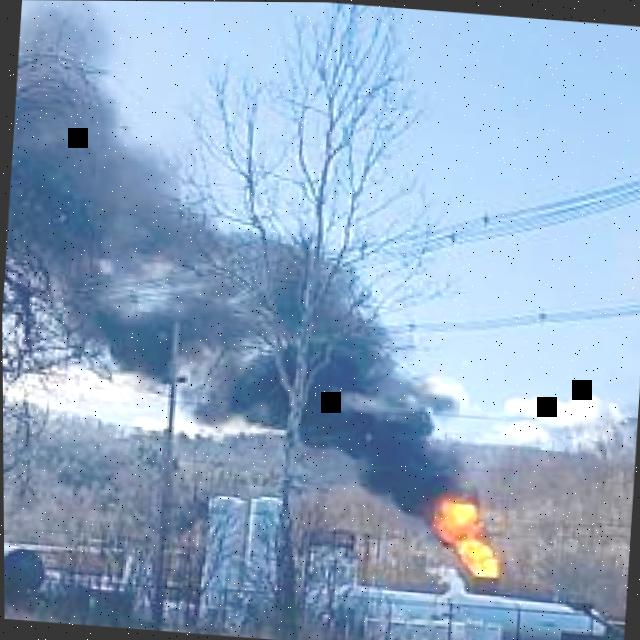fire: (430, 499, 498, 575)
smoke: (5, 2, 470, 517)
